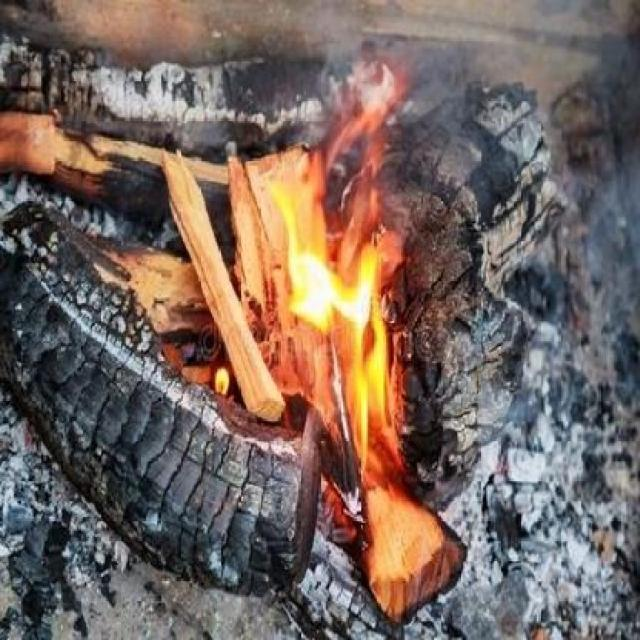Fire: (256, 110, 412, 475)
